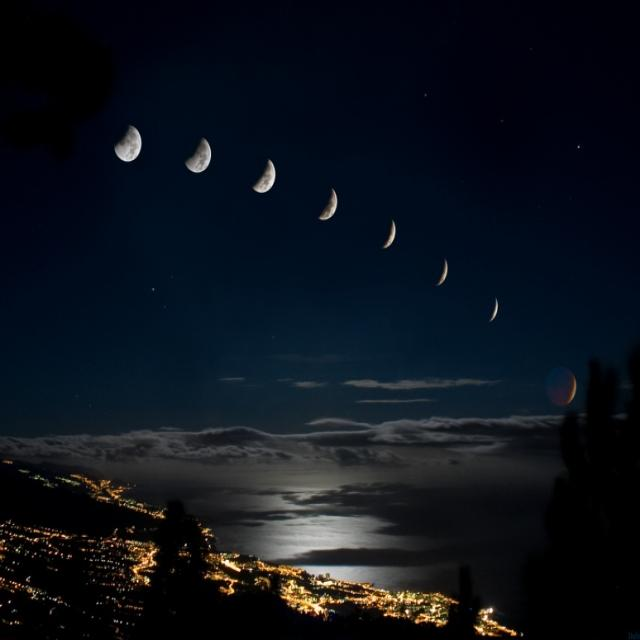moon: (544, 358, 580, 412), (180, 133, 216, 181), (112, 121, 144, 164), (312, 186, 344, 225), (250, 159, 281, 196), (378, 215, 403, 251), (430, 254, 452, 289), (487, 292, 506, 326)
